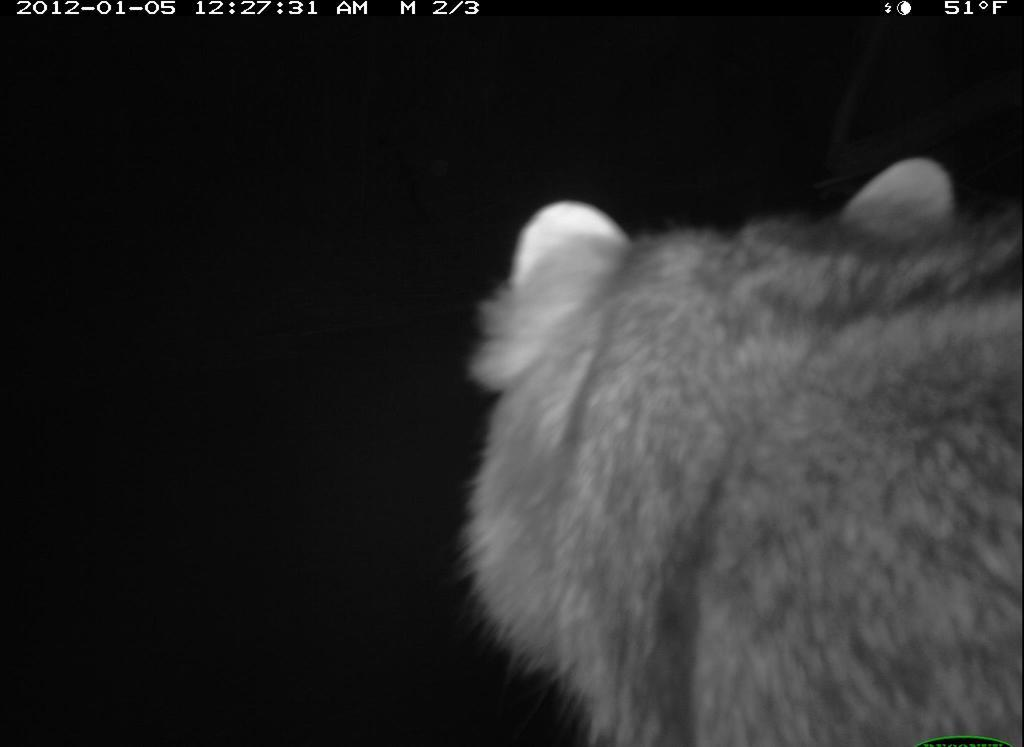raccoon: (472, 140, 1023, 747)
